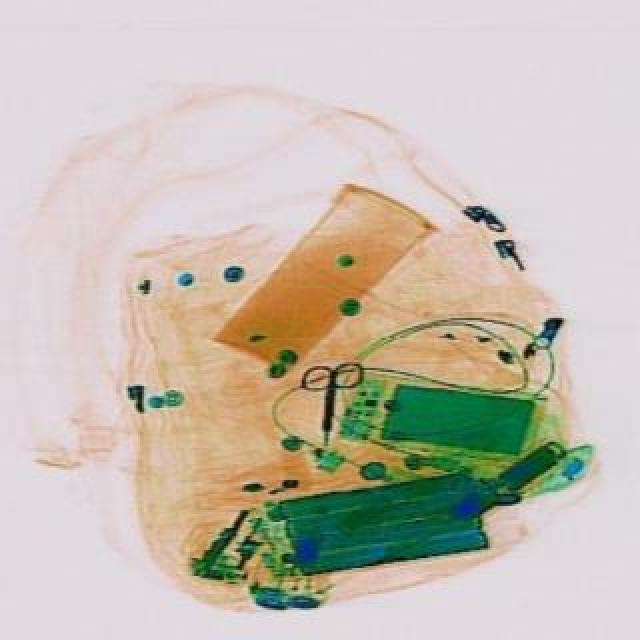pliers: (292, 358, 362, 446)
